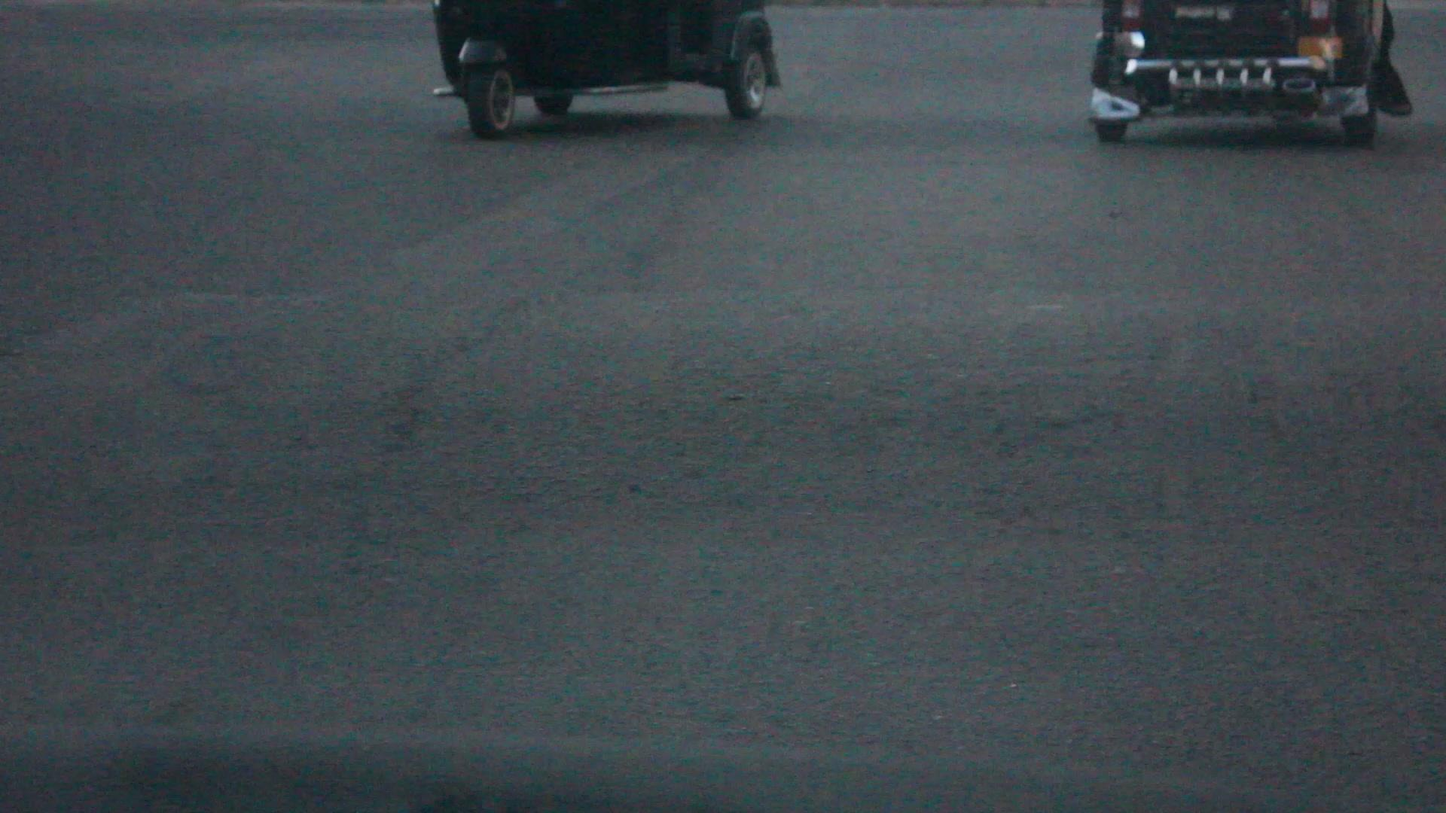Bump: (104, 322, 1446, 572)
